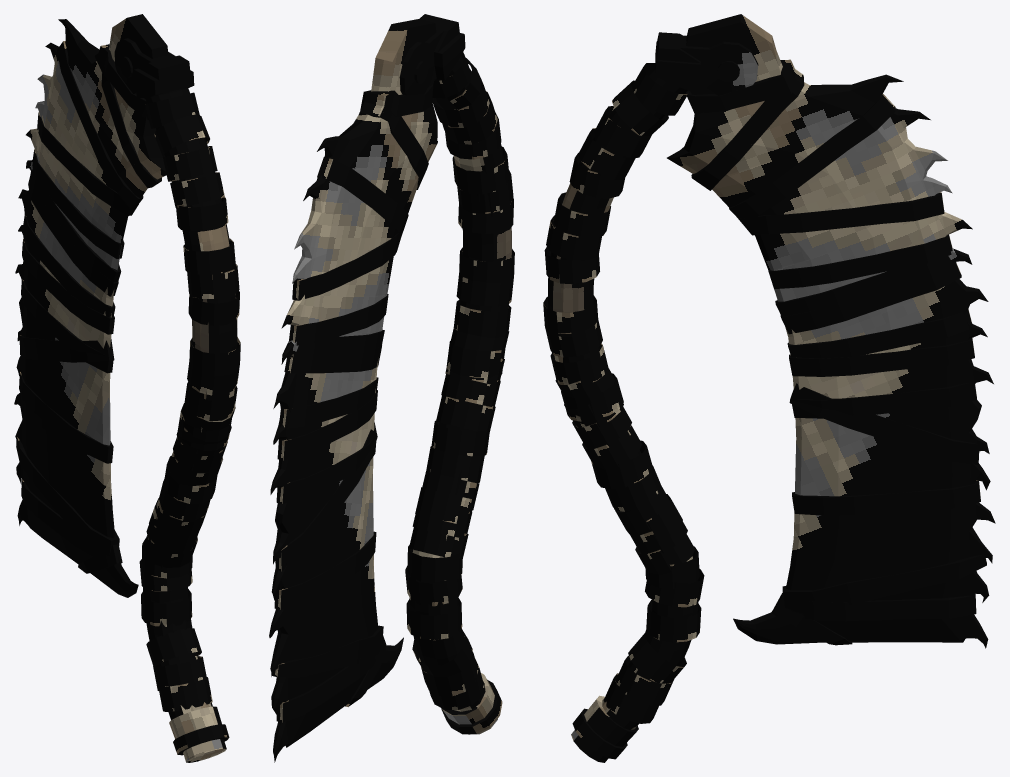
File: saw_cleaver.obj
3 views of the same model, side by side, from view 1: azimuth 30°, elevation 25°; view 2: azimuth 150°, elevation 25°; view 3: azimuth 270°, elevation 25° (orthographic). The views are drawn at different scales.
Parts seen in each view (by area): view 1: Plane_Plane.001, Cylinder.002_Cylinder.003, Cube.014_Cube.017, Cylinder.001; view 2: Plane_Plane.001, Cylinder.002_Cylinder.003, Cube.014_Cube.017, Cylinder.001; view 3: Plane_Plane.001, Cube.014_Cube.017, Cylinder.002_Cylinder.003, Cylinder.001.
Boxes of the visible parts, x1=… form: Plane_Plane.001: x1=14, y1=14, x2=168, y2=597; Cylinder.002_Cylinder.003: x1=139, y1=92, x2=240, y2=711; Cube.014_Cube.017: x1=16, y1=40, x2=161, y2=573; Cylinder.001: x1=114, y1=38, x2=237, y2=762; Plane_Plane.001: x1=269, y1=19, x2=437, y2=762; Cylinder.002_Cylinder.003: x1=405, y1=52, x2=514, y2=709; Cube.014_Cube.017: x1=272, y1=84, x2=433, y2=722; Cylinder.001: x1=399, y1=14, x2=511, y2=734; Plane_Plane.001: x1=667, y1=14, x2=995, y2=648; Cube.014_Cube.017: x1=686, y1=59, x2=986, y2=645; Cylinder.002_Cylinder.003: x1=543, y1=63, x2=704, y2=723; Cylinder.001: x1=548, y1=32, x2=758, y2=762.
Size of the model in its own units: 0.1968 by 2.74 by 1.51.
